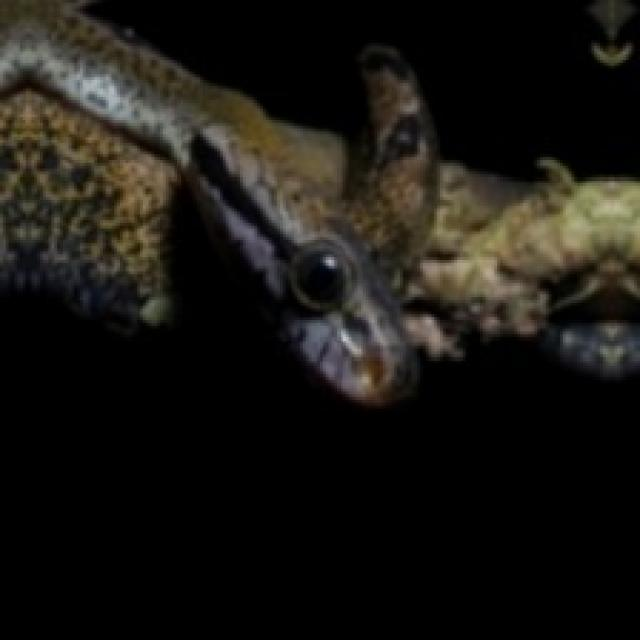dog-toothed cat snake: (0, 0, 637, 403), (0, 0, 414, 403), (366, 51, 426, 220)
